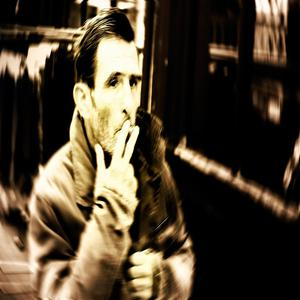cigarette: (125, 124, 140, 139)
